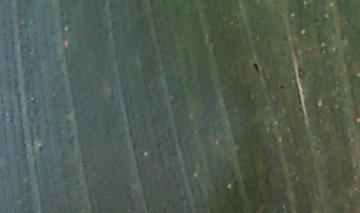tarspot: (250, 61, 263, 73), (278, 84, 286, 90)
